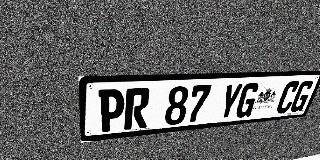7: (184, 85, 212, 124)
8: (164, 86, 191, 126)
C: (274, 81, 301, 114)
G: (234, 83, 261, 118), (288, 80, 315, 113)
P: (98, 89, 125, 133)
R: (124, 87, 151, 130)
Y: (216, 83, 244, 120)
